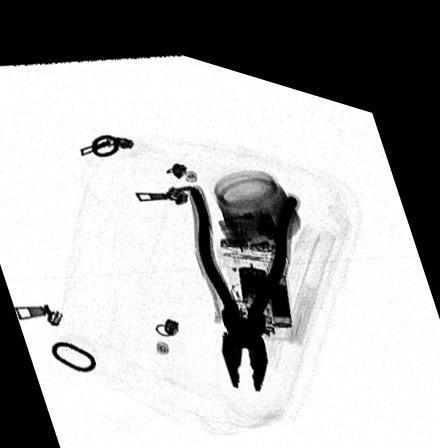Pliers: (182, 173, 299, 379)
